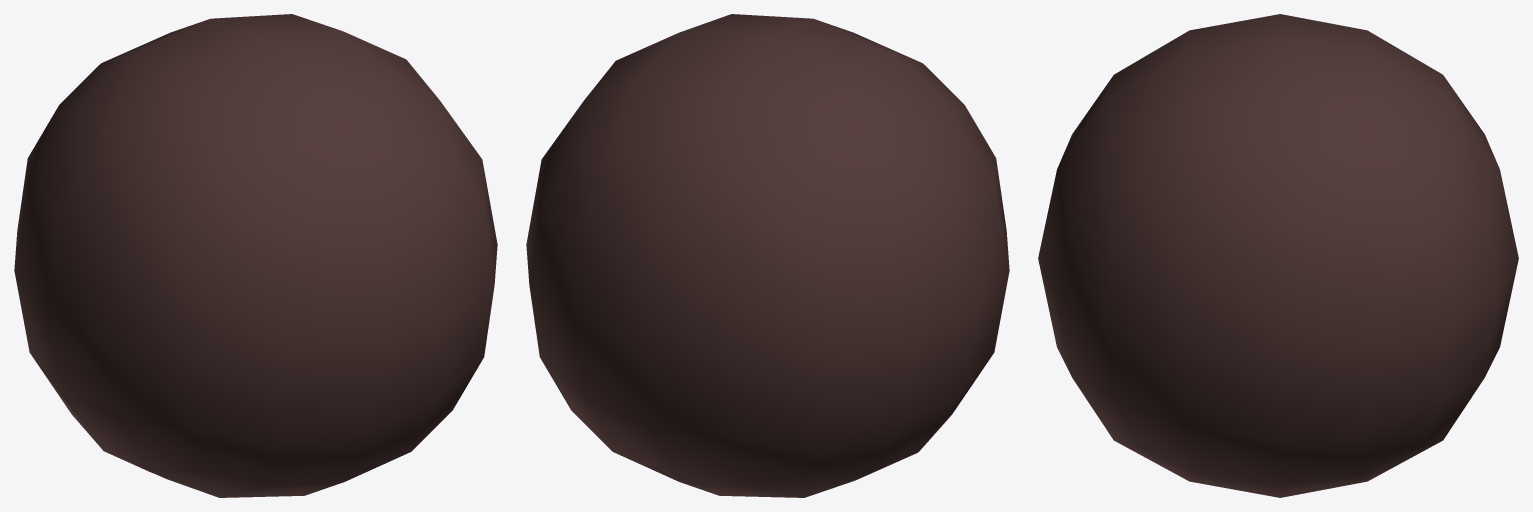
Rendered from candy_assets51.fbx.
The picture shows the model from 3 angles, left to right: view 1: azimuth 30°, elevation 25°; view 2: azimuth 150°, elevation 25°; view 3: azimuth 270°, elevation 25°; orthographic projection.
Parts seen in each view (by area): view 1: candy_assets51; view 2: candy_assets51; view 3: candy_assets51.
Part boxes in pixels (left/top/right/bottom): candy_assets51: left=14, top=14, right=497, bottom=497; candy_assets51: left=526, top=14, right=1009, bottom=497; candy_assets51: left=1038, top=14, right=1518, bottom=497.
Size of the model in its own units: 401 by 401 by 401.
Materials: 1 (1 with a texture image).
